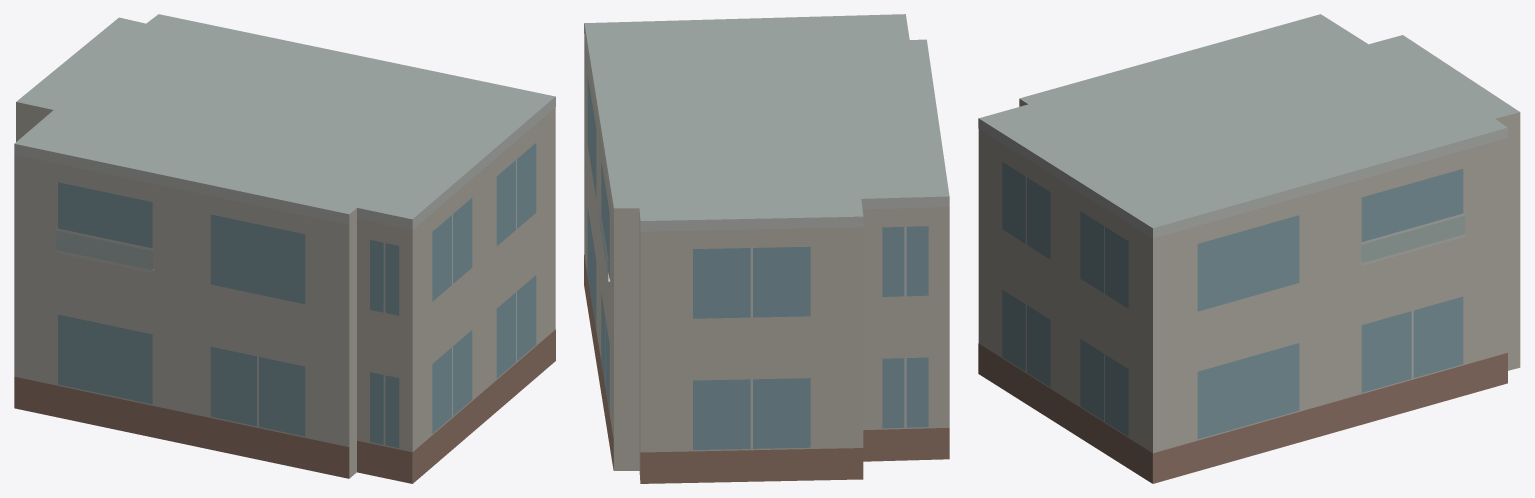
Rendered from survey-upis-32718605.glb.
The picture shows the model from 3 angles, left to right: view 1: azimuth 30°, elevation 25°; view 2: azimuth 150°, elevation 25°; view 3: azimuth 270°, elevation 25°; orthographic projection. The views are drawn at different scales.
Parts seen in each view (by area): view 1: survey-upis-32718605.tmp; view 2: survey-upis-32718605.tmp; view 3: survey-upis-32718605.tmp.
Boxes of the visible parts, x1,y1,x2,y2 form: survey-upis-32718605.tmp: [14, 14, 555, 483]; survey-upis-32718605.tmp: [584, 14, 949, 483]; survey-upis-32718605.tmp: [978, 14, 1520, 483].
Size of the model in its own units: 10.98 by 6.1 by 11.73.
